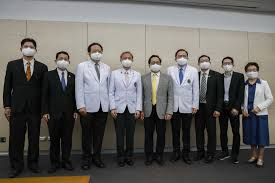mask: (88, 52, 105, 62), (54, 58, 70, 68), (244, 71, 261, 80), (21, 47, 36, 57), (148, 64, 163, 72), (120, 58, 133, 67), (175, 59, 189, 67), (198, 62, 211, 70), (223, 64, 233, 73)
